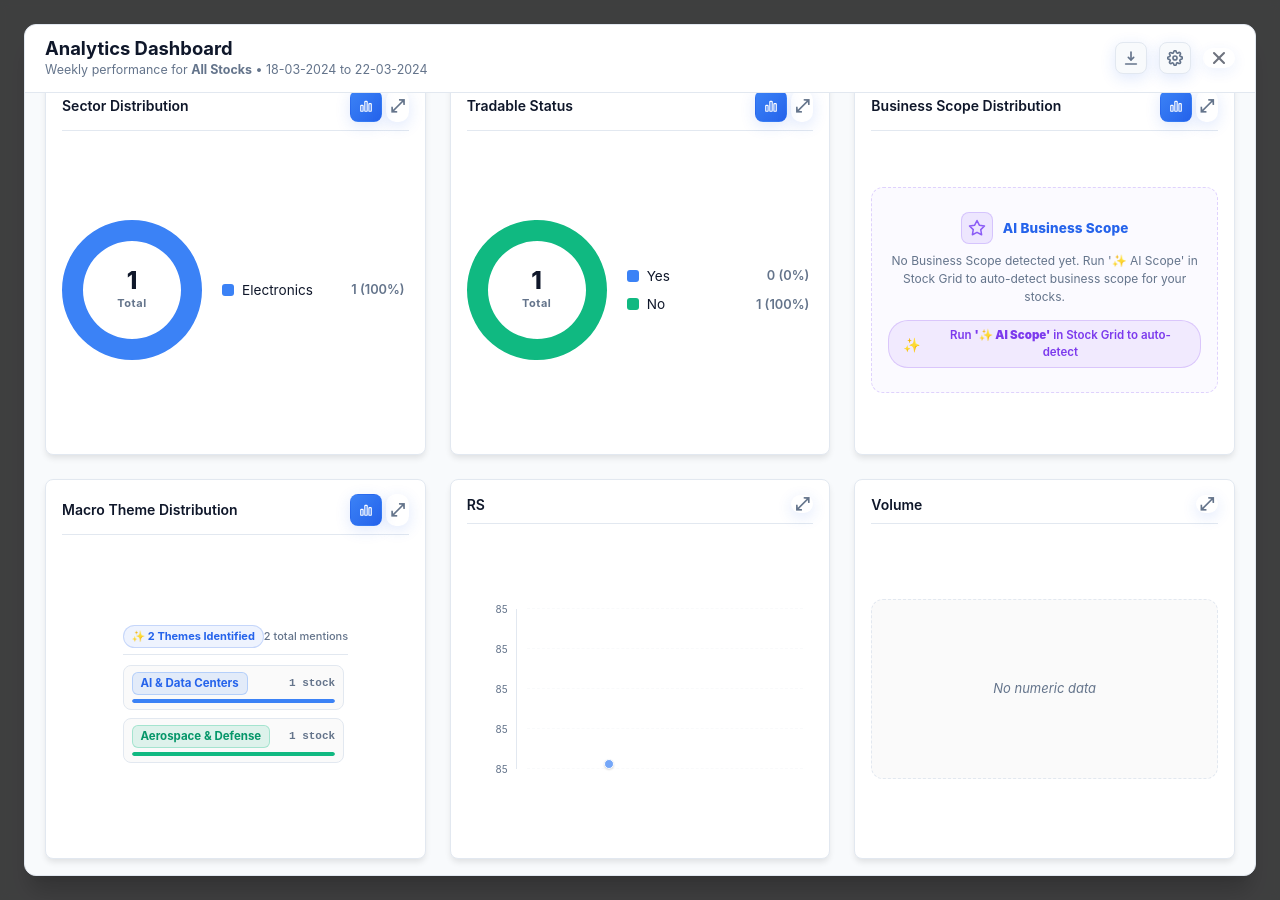
AnalyticsDashboard › aggregates multi-thematic stocks across multiple theme baskets with role badges and theses
(page scrolled)
Expected: the text "AI & Data Centers" is shown, [132,672,248,695]
Expected: the text "Aerospace & Defense" is shown, [132,725,270,748]
Expand Macro Theme Distribution
Click the button with class "expand-btn" next to "Macro Theme Distribution". click: (398, 510)
box: [386,494,409,526]
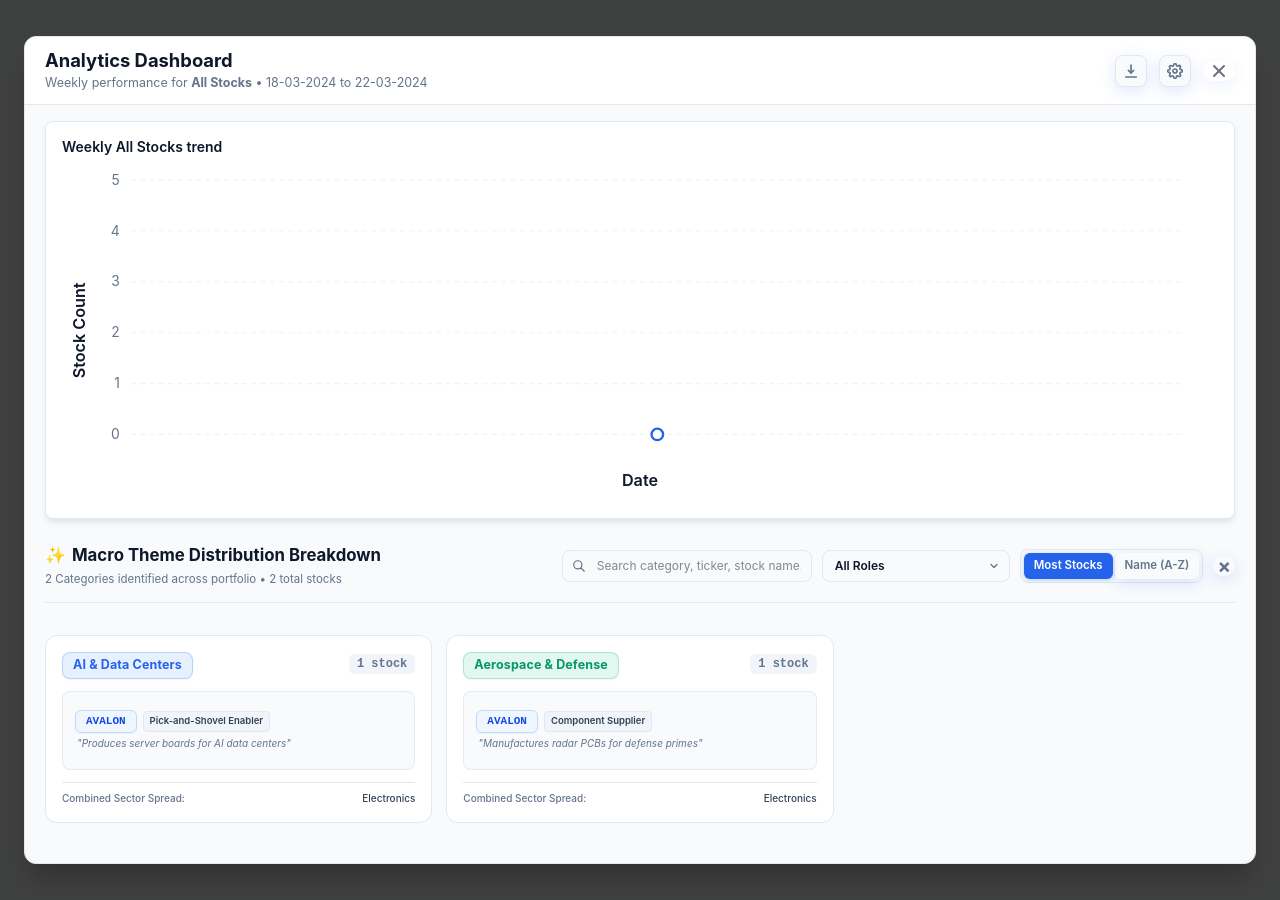
Result: the text "\"Produces server boards for AI data centers\"" is shown at [77,737,291,749]
Result: the text "\"Manufactures radar PCBs for defense primes\"" is shown at [478,737,703,749]
